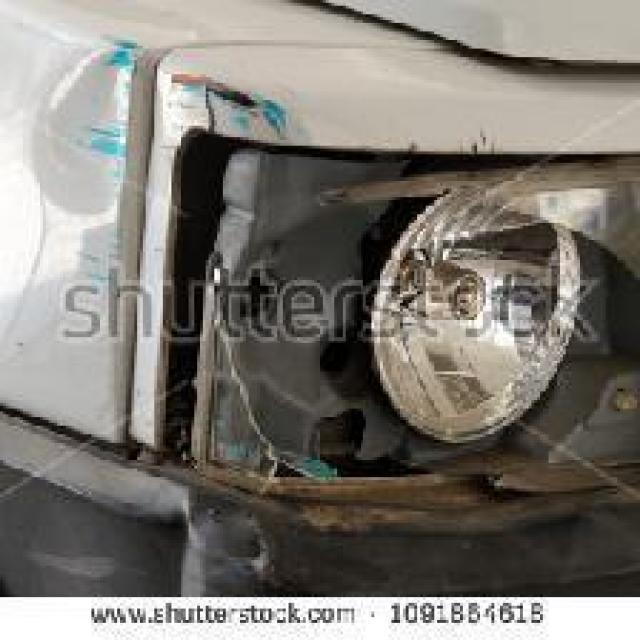damaged: (162, 123, 638, 526)
